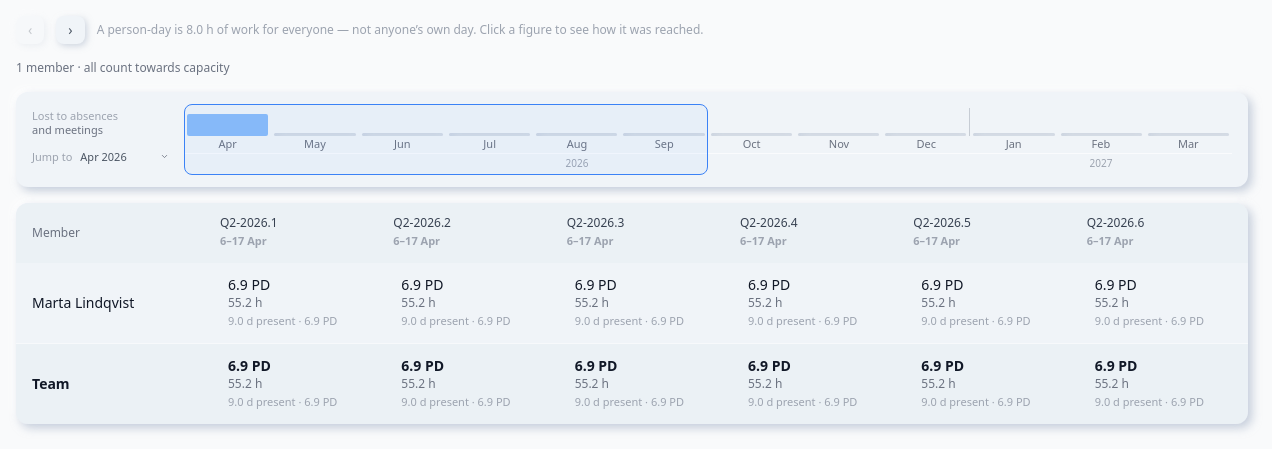
Scenario: TeamCapacityView › pages six sprints at a time
The image size is (1272, 449).
Expected: the text "Q2-2026.1" is shown 6 times, [220,214,278,230]; [393,214,451,230]; [567,214,624,230]; [740,214,798,230]; [913,214,971,230]; [1087,214,1144,230]
Expected: the button named "Earlier sprints" is disabled, [16,16,44,44]
Click the button named "Later sprints": [70, 30] box [56,16,85,44]
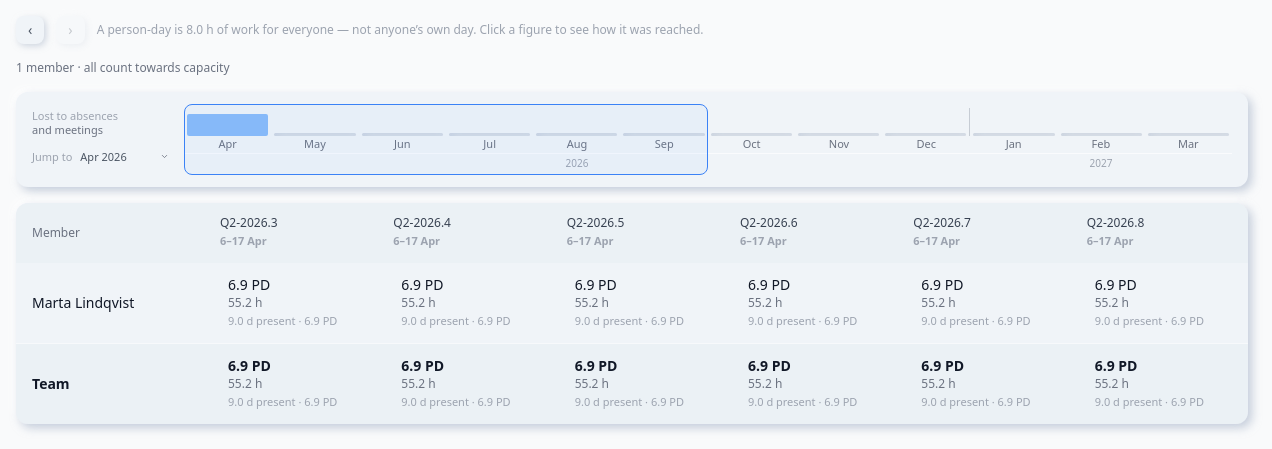
Now the text "Q2-2026.7" is shown, box [913,214,971,230]
Now the text "Q2-2026.1" is gone
